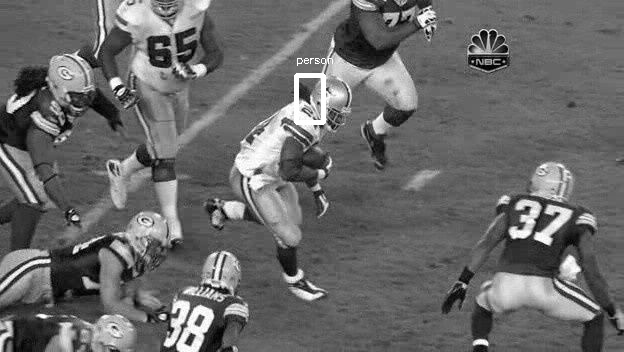person: (315, 79, 350, 131), (314, 79, 349, 131), (316, 79, 351, 131), (315, 78, 350, 130), (315, 80, 350, 132)
target_negative: (289, 183, 591, 328), (366, 94, 587, 199), (454, 32, 619, 118), (522, 328, 572, 342), (148, 184, 159, 196), (583, 330, 594, 337)
